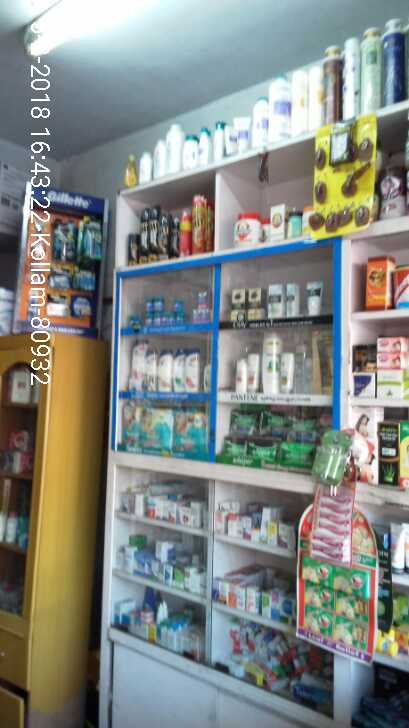vicks: (140, 288, 216, 327)
